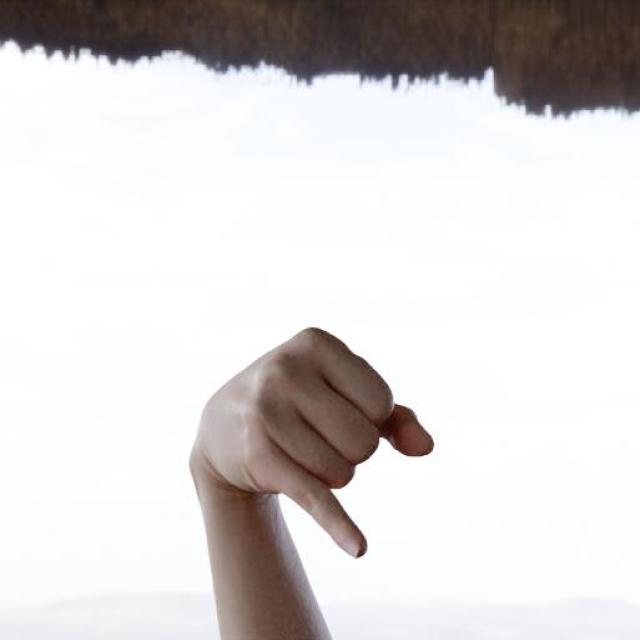J: (182, 324, 439, 565)
